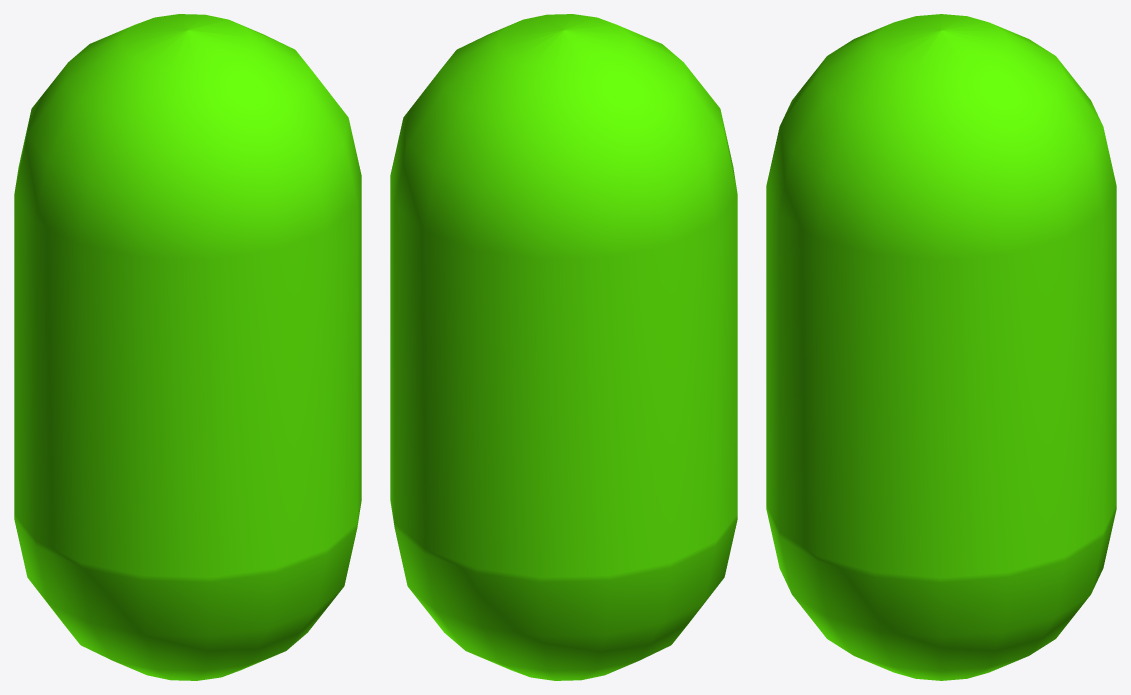
File: player.fbx
3 renders of one model, left to right at view 1: azimuth 30°, elevation 25°; view 2: azimuth 150°, elevation 25°; view 3: azimuth 270°, elevation 25°, orthographic.
Parts seen in each view (by area): view 1: pCylinder1; view 2: pCylinder1; view 3: pCylinder1.
Boxes of the visible parts, bbox=[...] form: pCylinder1: bbox=[14, 14, 361, 680]; pCylinder1: bbox=[390, 14, 737, 680]; pCylinder1: bbox=[766, 14, 1116, 680].
Bounding box in the file's own units: 2 × 3.99 × 2.
